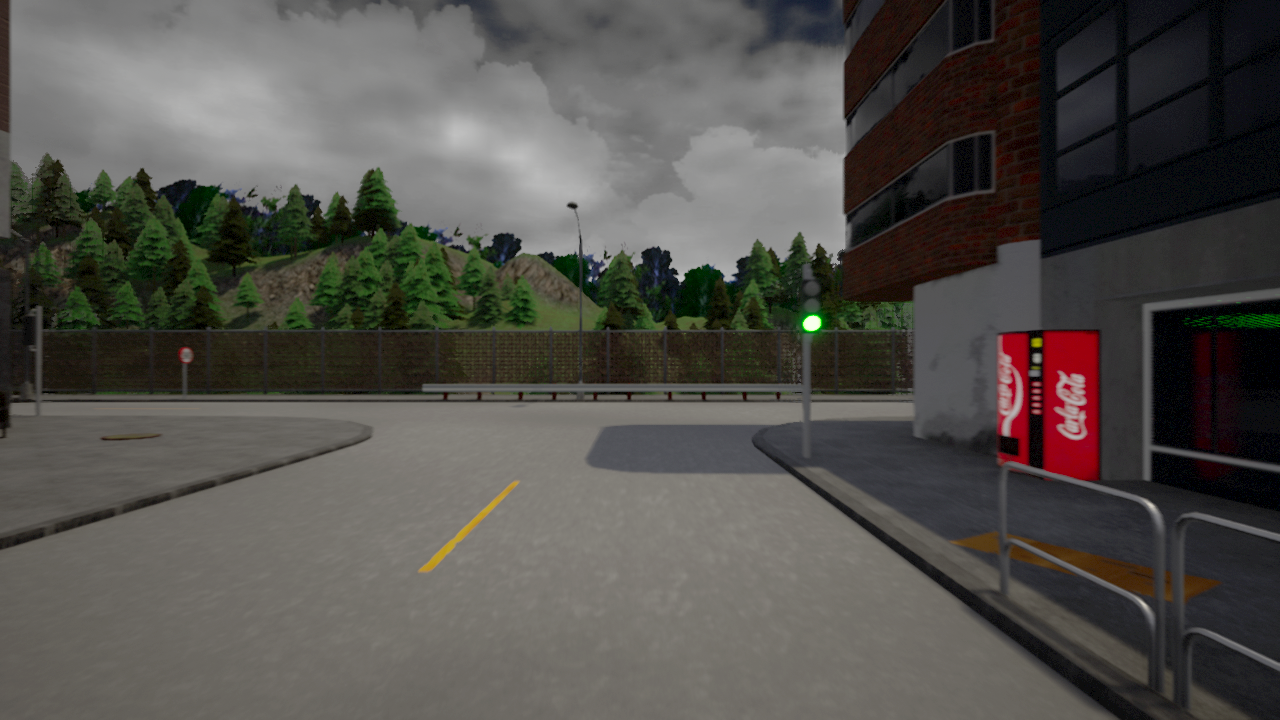green: (799, 280, 822, 334)
